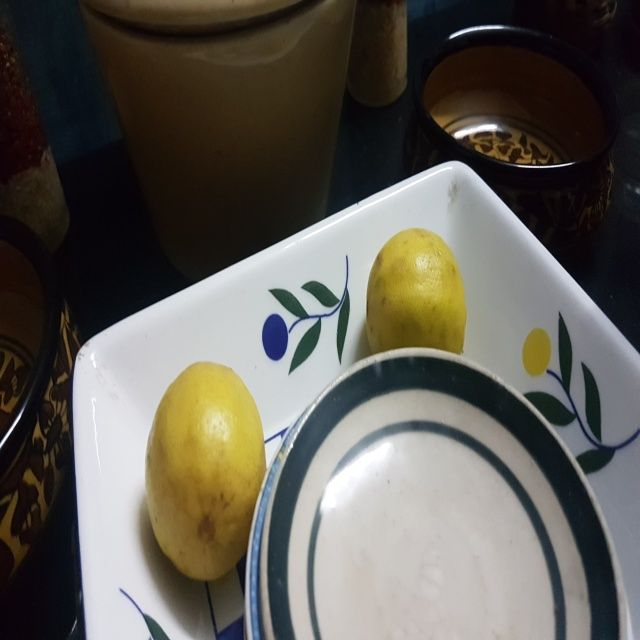lemon: (140, 358, 274, 581), (367, 220, 476, 385)
